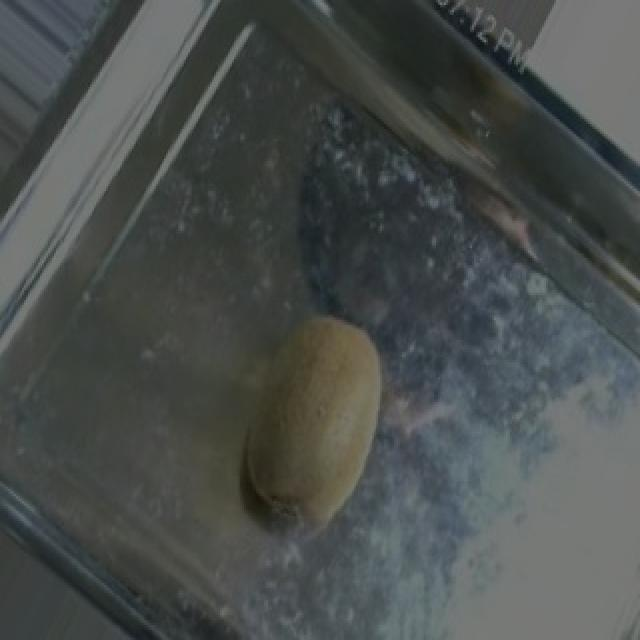Fruit: (222, 292, 420, 546)
